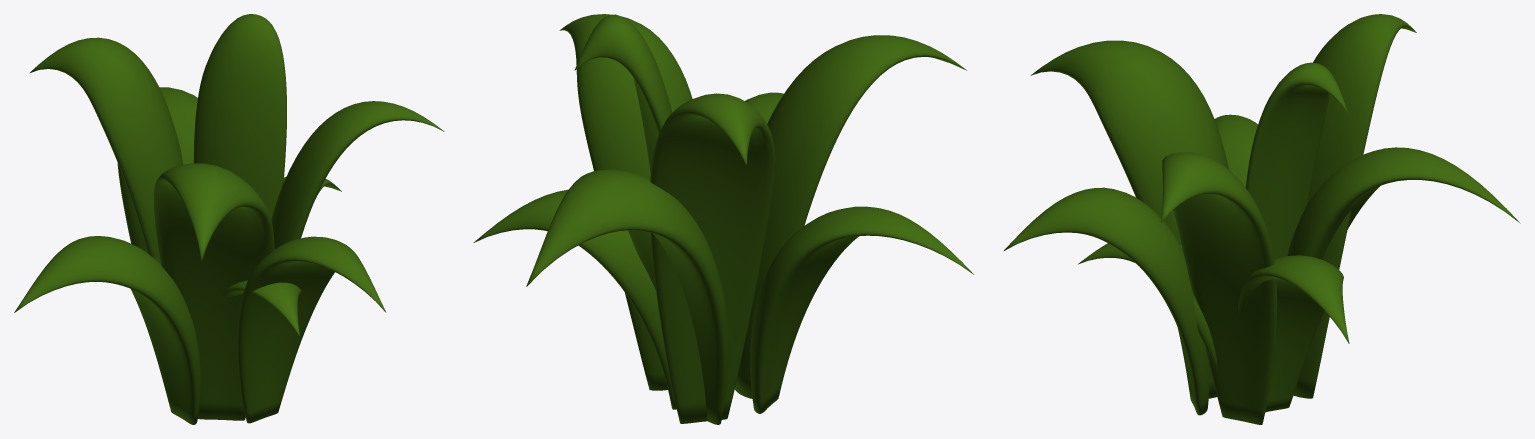
Rendered from bank_arch_tuft.glb.
The picture shows the model from 3 angles, left to right: view 1: azimuth 30°, elevation 25°; view 2: azimuth 150°, elevation 25°; view 3: azimuth 270°, elevation 25°; orthographic projection. The views are drawn at different scales.
Parts seen in each view (by area): view 1: SM_BankArchTuft; view 2: SM_BankArchTuft; view 3: SM_BankArchTuft.
Part boxes in pixels (bbox=[...]): SM_BankArchTuft: bbox=[14, 14, 444, 424]; SM_BankArchTuft: bbox=[473, 14, 973, 424]; SM_BankArchTuft: bbox=[1004, 14, 1520, 424].
Bounding box in the file's own units: 0.5589 × 0.4647 × 0.5974.
